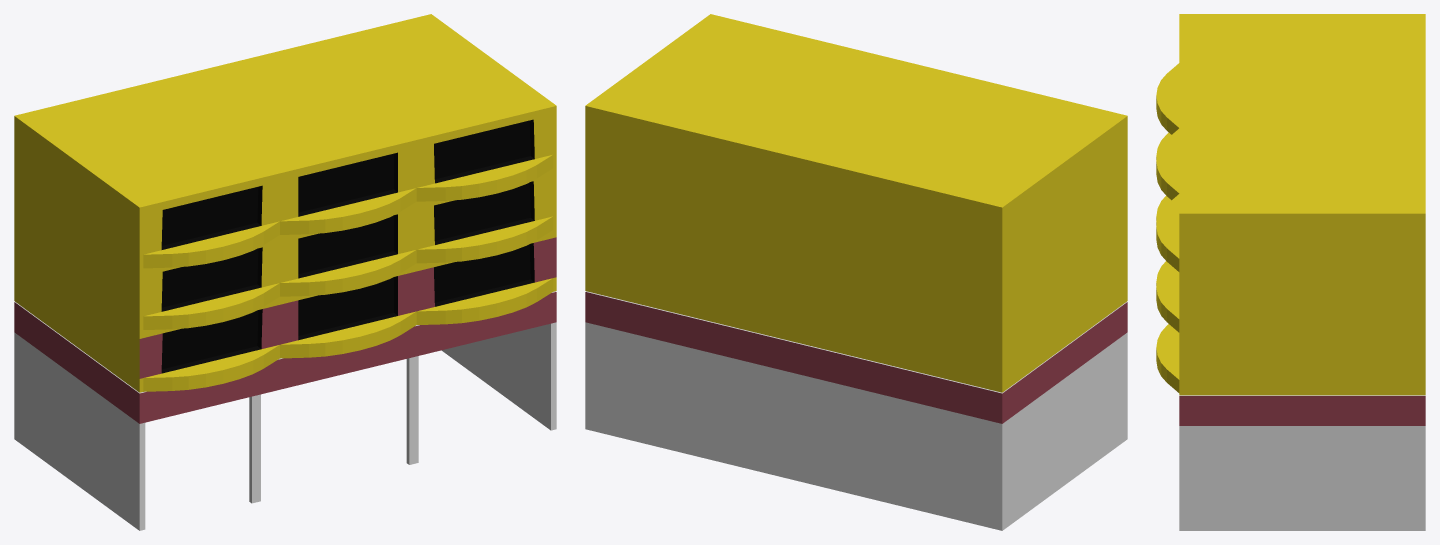
The model's file is loja_31.fbx.
3 views of the same model, side by side, from view 1: azimuth 30°, elevation 25°; view 2: azimuth 150°, elevation 25°; view 3: azimuth 270°, elevation 25° (orthographic).
Parts seen in each view (by area): view 1: Cube; view 2: Cube; view 3: Cube.
Part boxes in pixels (x1=…): Cube: x1=14, y1=14, x2=556, y2=530; Cube: x1=585, y1=14, x2=1127, y2=530; Cube: x1=1156, y1=14, x2=1425, y2=530.
Size of the model in its own units: 3514 by 2603 by 2002.
